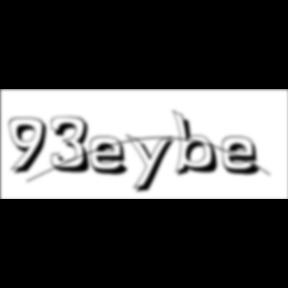3: (51, 116, 97, 176)
9: (9, 117, 54, 177)
b: (172, 109, 226, 179)
e: (90, 135, 136, 178), (222, 135, 268, 178)
y: (126, 132, 180, 196)
